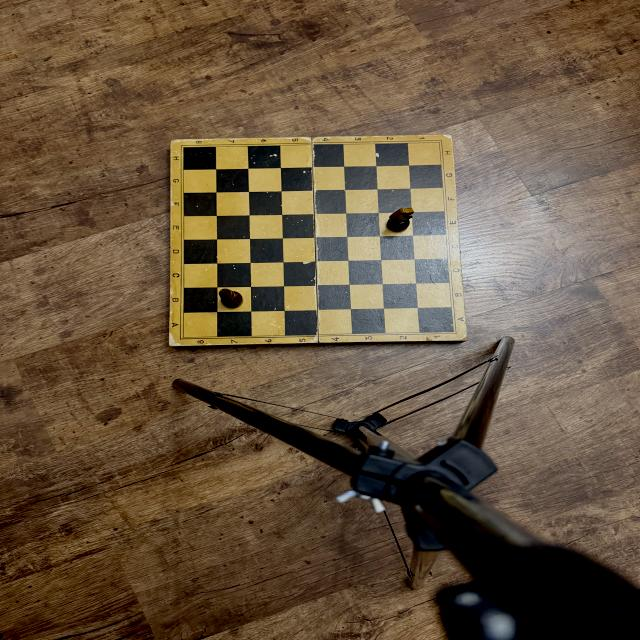black-bishop: (218, 288, 244, 309)
black-knight: (386, 208, 414, 232)
